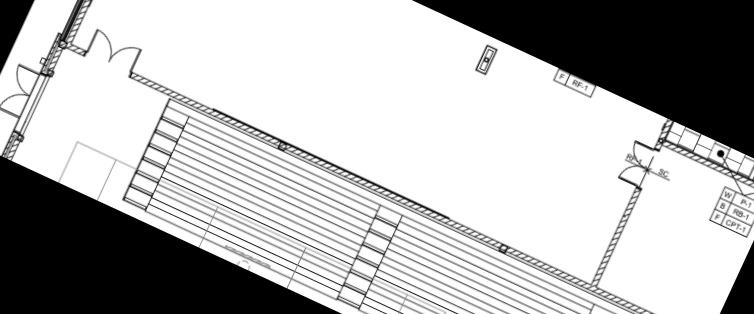double door: (79, 25, 146, 80), (0, 59, 48, 124), (614, 136, 664, 195)
wall: (125, 67, 710, 314), (585, 182, 649, 291), (654, 136, 754, 202), (59, 0, 150, 56), (651, 118, 677, 155)
